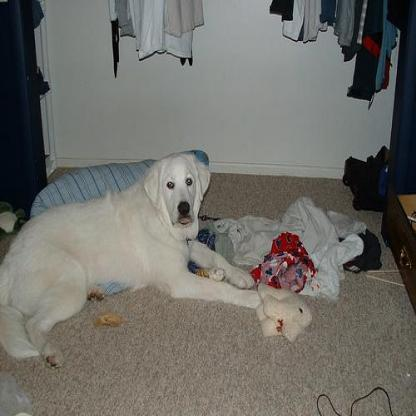Great_Pyrenees: (0, 149, 260, 368)
